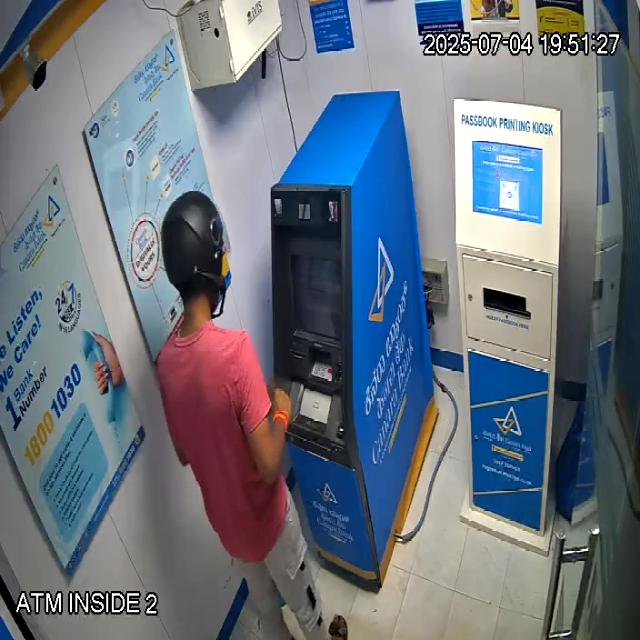helmet: (161, 190, 233, 323)
